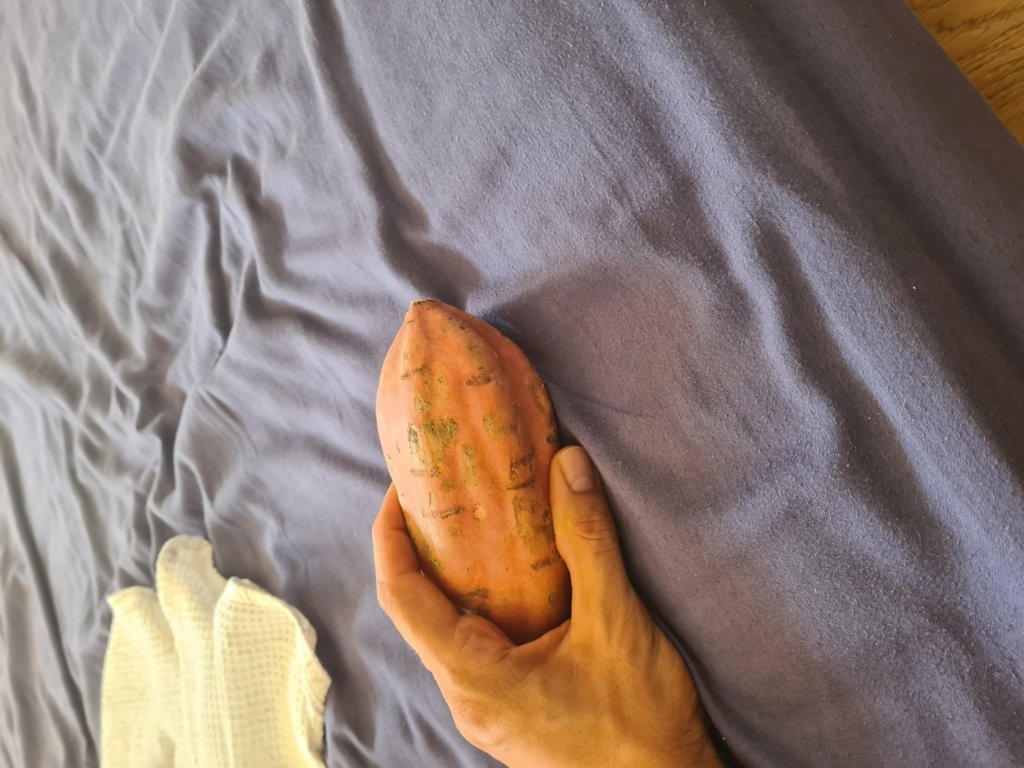Sweet Potatow: (364, 307, 580, 633)
